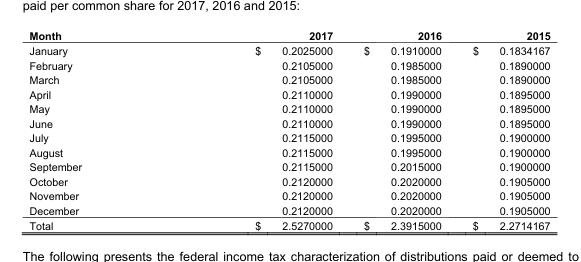table: (28, 29, 549, 231)
table column: (167, 29, 347, 231), (28, 29, 167, 231), (347, 29, 456, 231), (456, 29, 549, 231)
table column header: (28, 29, 549, 42)
table row: (28, 42, 549, 57), (28, 57, 549, 72), (28, 86, 549, 101), (28, 115, 549, 130), (28, 144, 549, 159), (28, 173, 549, 188), (28, 202, 549, 217), (28, 72, 549, 86), (28, 101, 549, 115), (28, 130, 549, 144), (28, 159, 549, 173), (28, 188, 549, 202), (28, 217, 549, 231), (28, 29, 549, 42)
